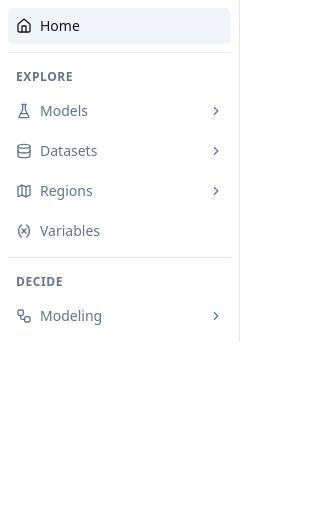
Sidebar › expanded mode › expands Models section on click to show sub-items
The width and height of the screenshot is (320, 515).
Step 1. Click the button "Models" → [120, 111], box [8,93,231,129]
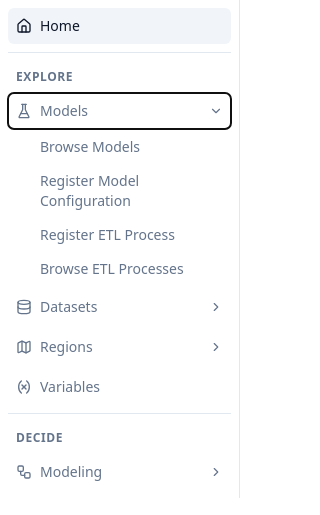
Check: the link "Browse Models" is shown, box [40,137,140,156]
Check: the link "Register Model Configuration" is shown, box [40,171,139,210]
